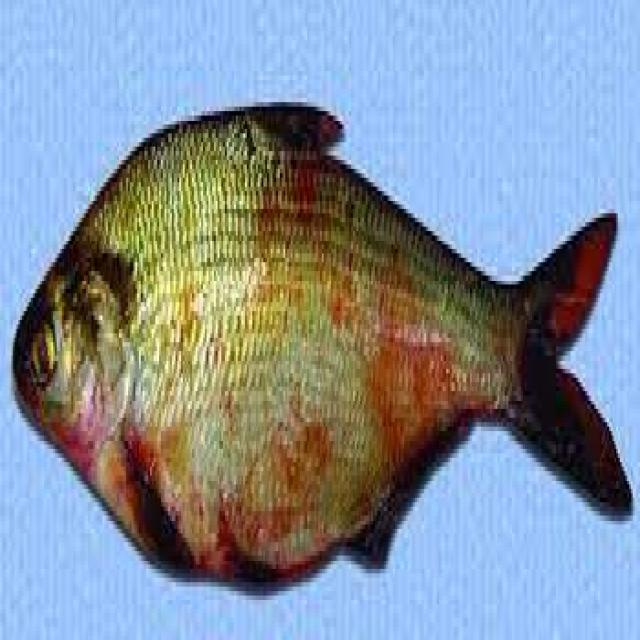EUS Disease: (7, 104, 637, 591), (125, 359, 361, 568), (322, 220, 478, 421), (220, 145, 382, 298), (22, 312, 118, 489)
